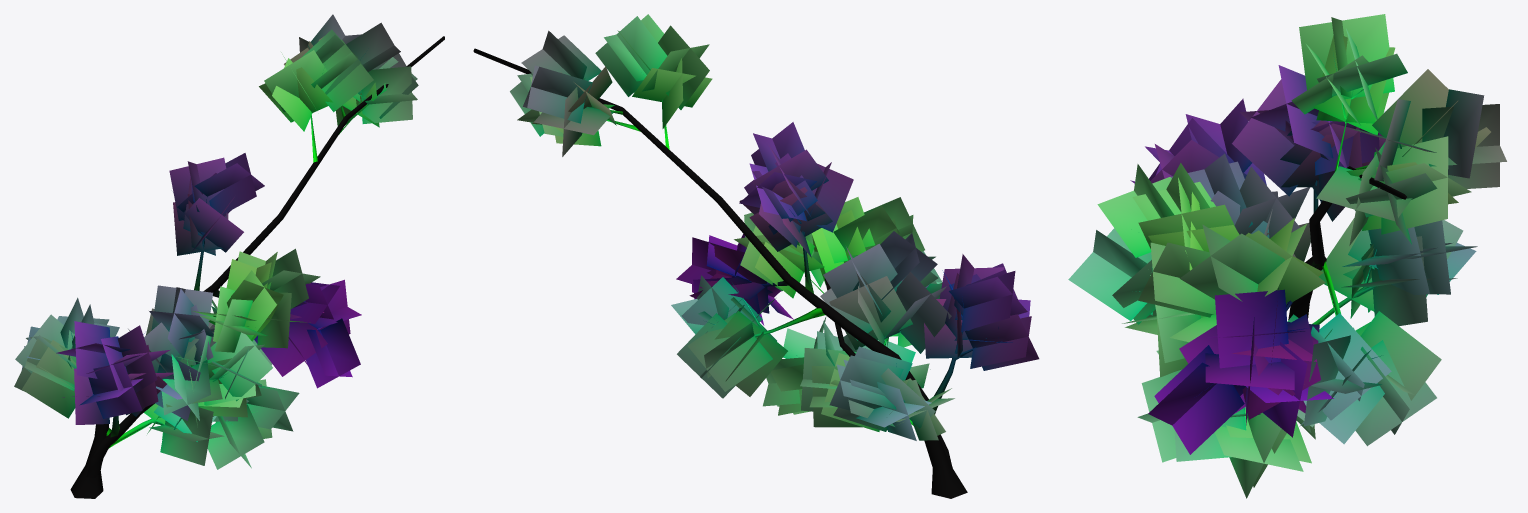
File: M_P5_Tree_12.fbx
3 renders of one model, left to right at view 1: azimuth 30°, elevation 25°; view 2: azimuth 150°, elevation 25°; view 3: azimuth 270°, elevation 25°, orthographic. The views are drawn at different scales.
Parts seen in each view (by area): view 1: Tree_12; view 2: Tree_12; view 3: Tree_12.
Boxes of the visible parts, x1,y1,x2,y2 form: Tree_12: [14, 14, 444, 498]; Tree_12: [473, 14, 1039, 498]; Tree_12: [1068, 14, 1506, 498].
Bounding box in the file's own units: 768 × 624 × 435.
